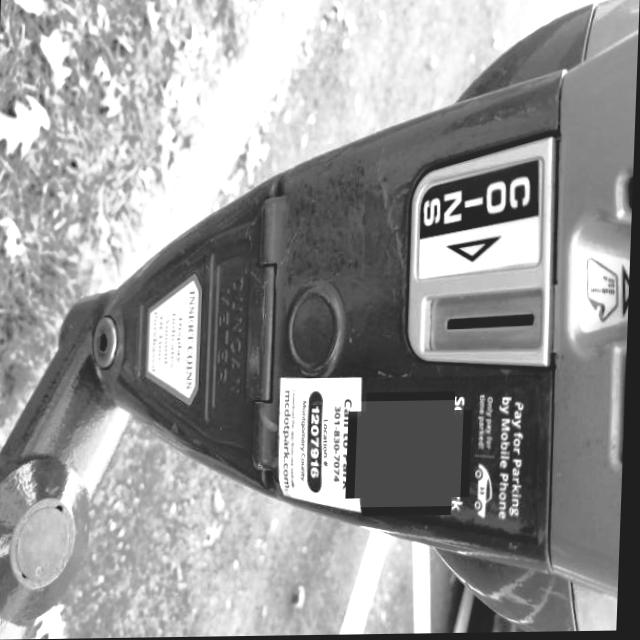qr_code: (357, 401, 466, 509)
